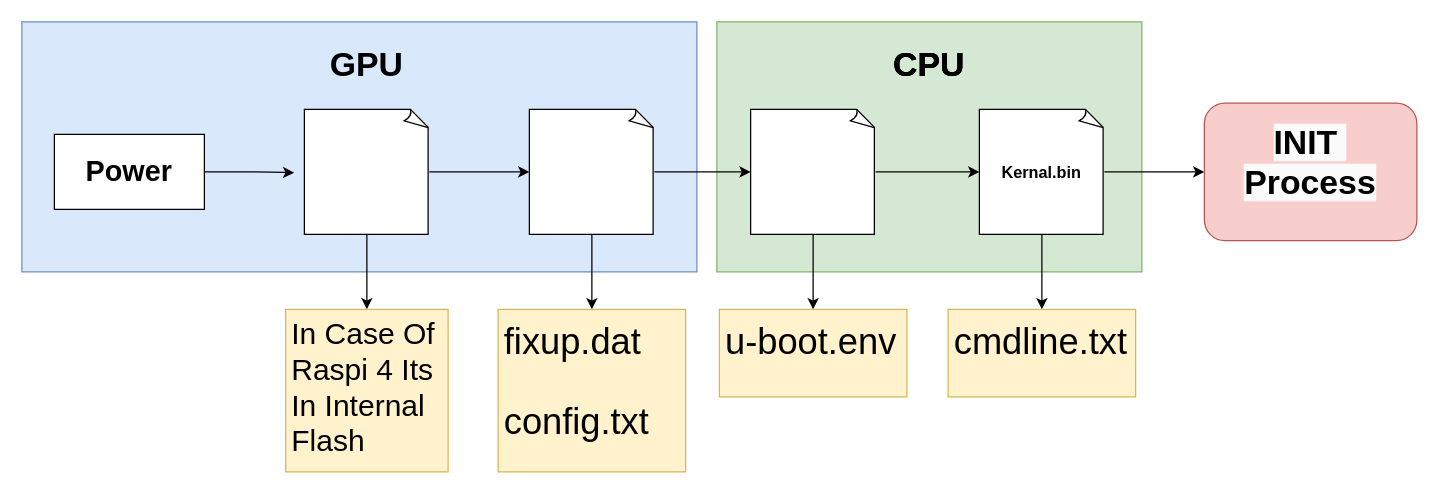
Image size: 1439x494. Some labels were removed from this diagram. Each missing label, with the centre of its shape:
BootCode.bin: point 366,171
Start.elf: point 591,171
u-boot.bin: point 812,171
